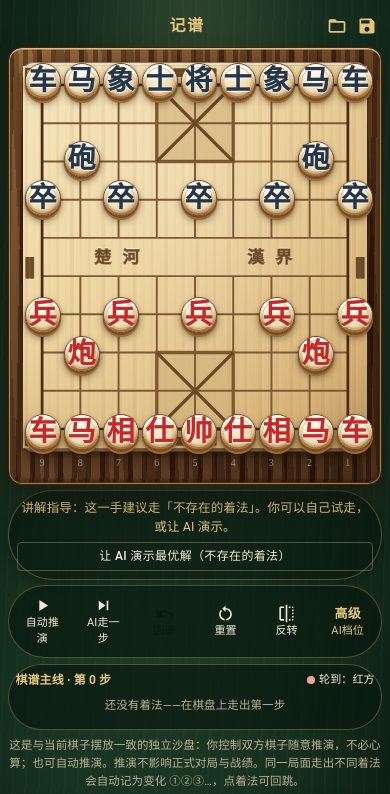
Test: simulation hintMode contract › move mode surfaces a visible error when the best move cannot be matched
Click the button with test id "show-best": (195, 556) left=17, top=542, right=373, bottom=571
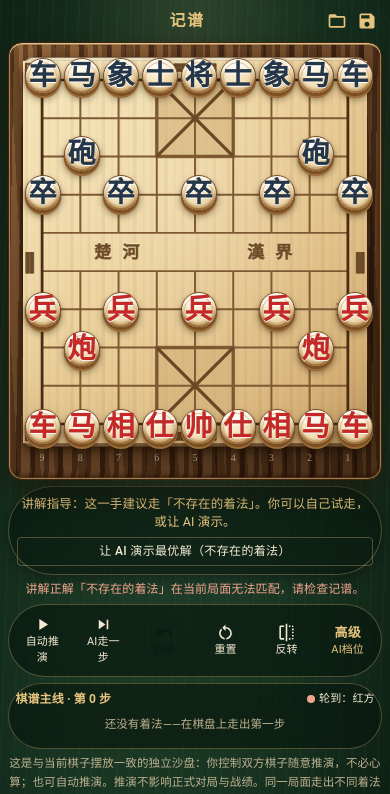
Expected: the text "讲解正解「不存在的着法」在当前局面无法匹配，请检查记谱。" is shown, left=8, top=580, right=382, bottom=598
